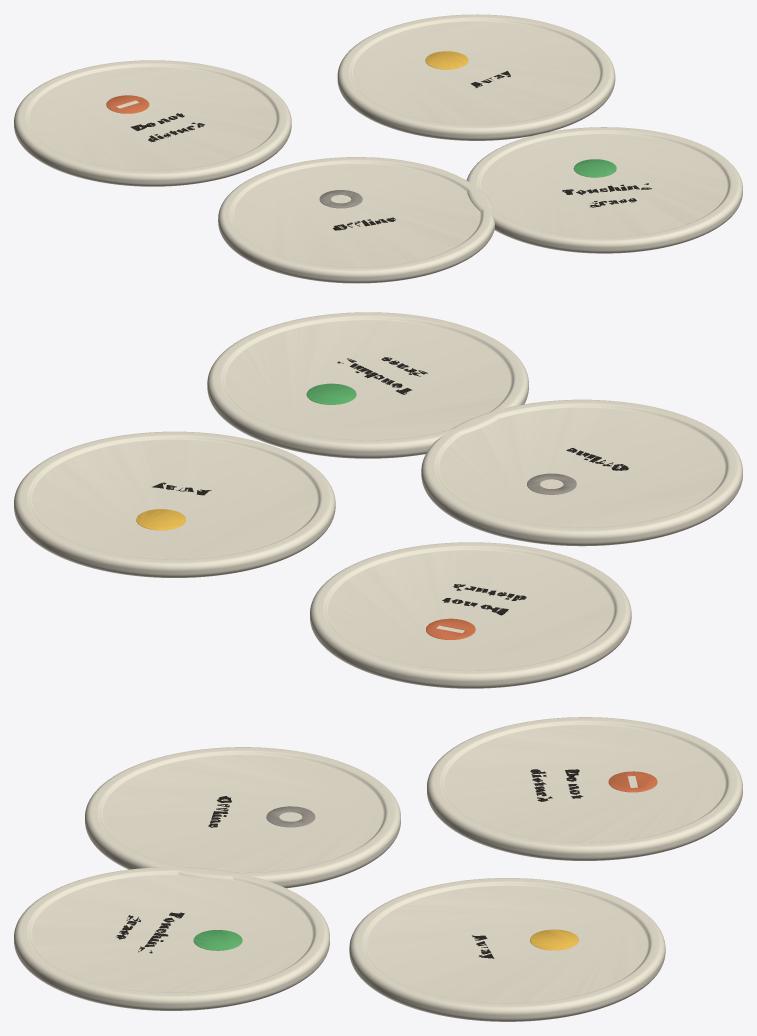
File: status.glb
3 views of the same model, one above another, from view 1: azimuth 30°, elevation 25°; view 2: azimuth 150°, elevation 25°; view 3: azimuth 270°, elevation 25° (orthographic). The views are drawn at different scales.
Visible parts, largest first — view 1: st-offline-body; view 2: st-offline-body; view 3: st-offline-body.
Part boxes in pixels (box(x1,y1,x2,y2)): st-offline-body: box(14, 14, 742, 283); st-offline-body: box(14, 312, 742, 688); st-offline-body: box(14, 717, 742, 1021).
Bounding box in the file's own units: 0.216 × 0.00499 × 0.226.
Materials: 1 (1 with a texture image).
